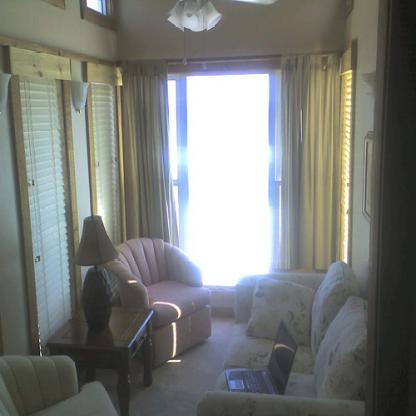chair: (106, 237, 213, 368), (0, 351, 118, 415)
sofa: (195, 259, 369, 415)
